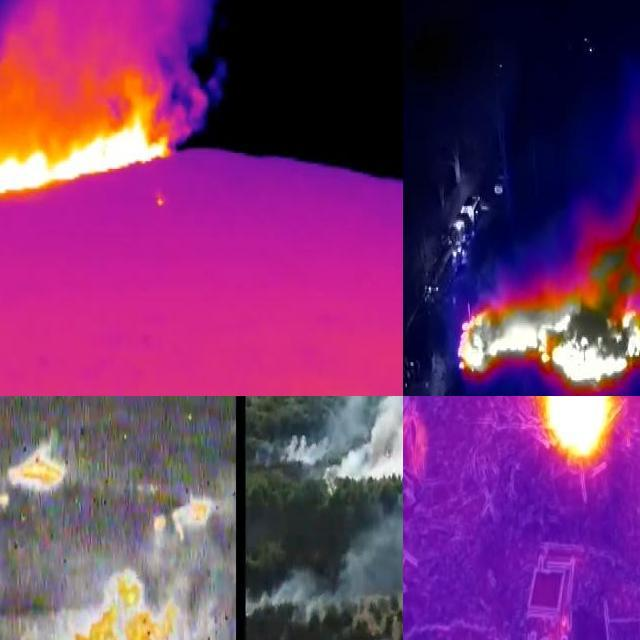fire: (461, 235, 640, 395), (1, 61, 181, 211), (34, 570, 180, 640), (540, 397, 638, 471), (145, 492, 220, 541), (5, 441, 70, 496)
